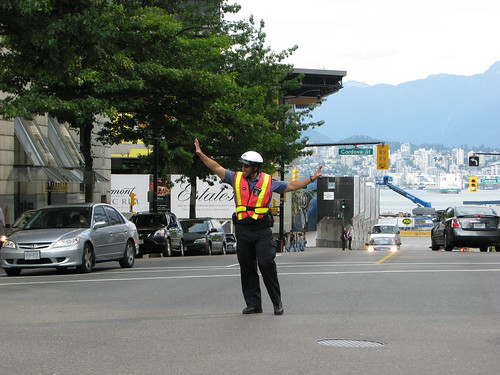building: (387, 145, 477, 192)
car: (13, 201, 151, 276), (428, 201, 500, 252), (132, 205, 185, 257), (185, 216, 229, 253)
policeman: (206, 151, 298, 311)
sky: (311, 1, 500, 140)
street: (1, 265, 487, 375)
tree: (14, 3, 298, 184)
